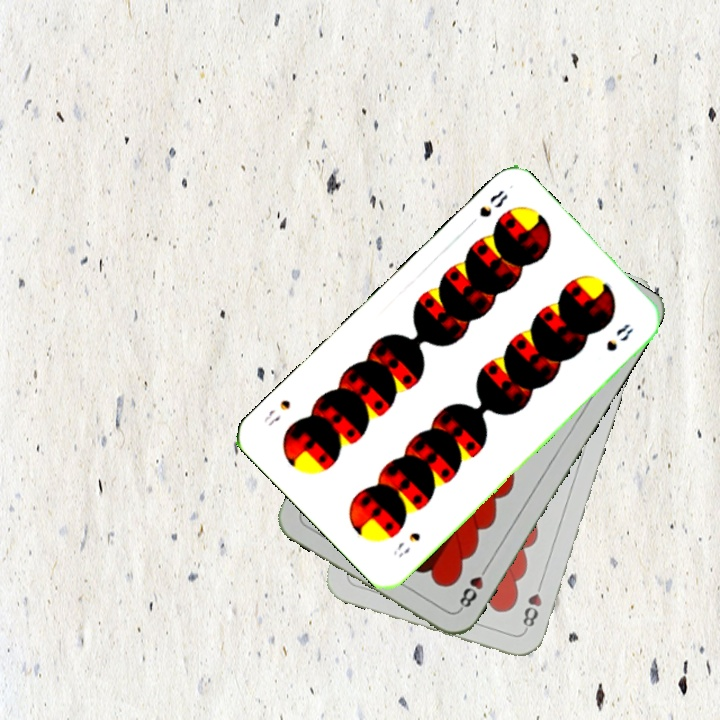H8: (455, 560, 492, 613), (518, 576, 546, 633)
S8: (475, 186, 511, 220), (389, 528, 423, 560)
